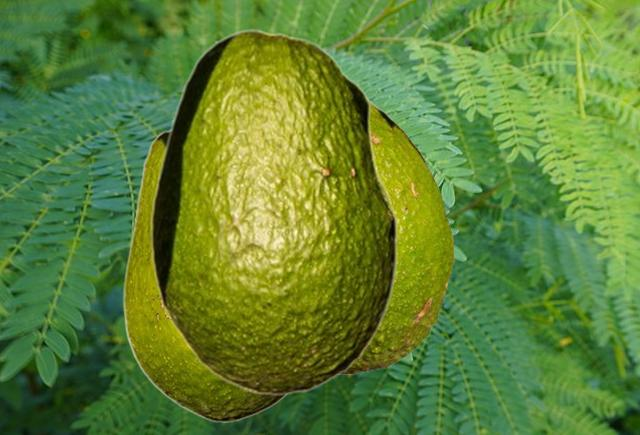avocado: (150, 28, 397, 395), (123, 128, 288, 421), (345, 97, 453, 373)
